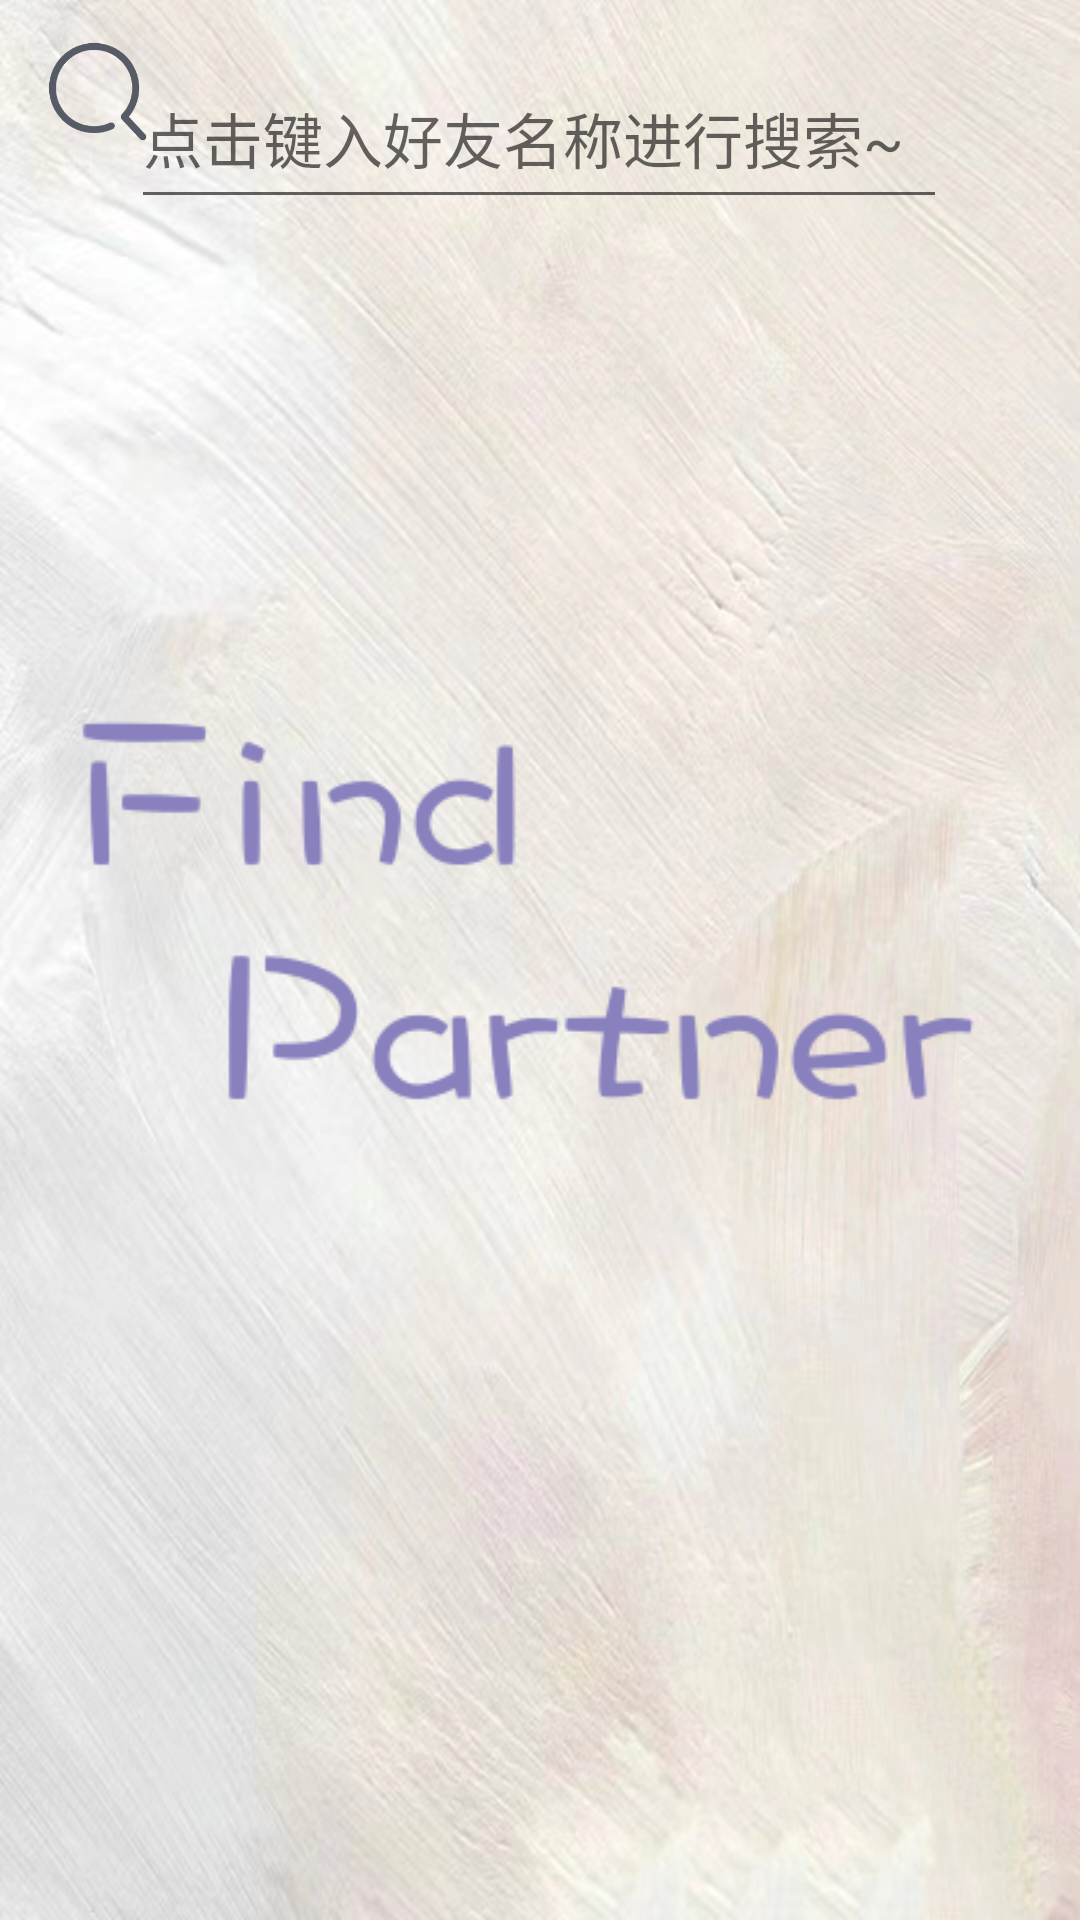

Icons on this 1080x1920 Android screen, each with the point to tap as (x=x, y=y):
search: (x=101, y=105)
